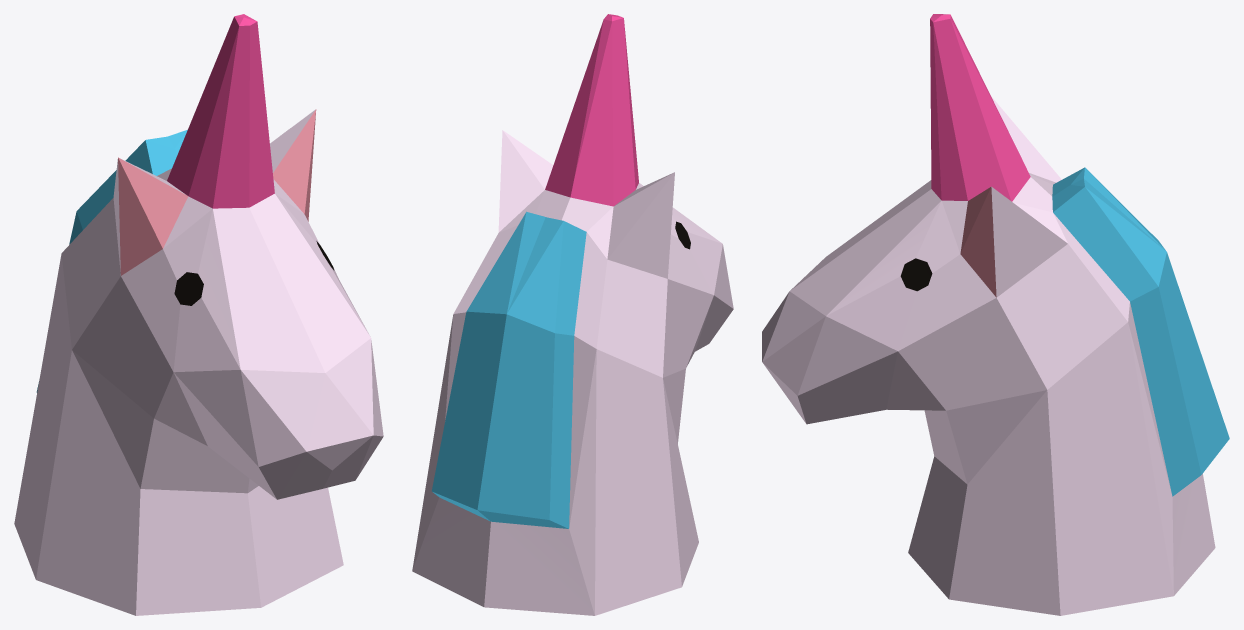
Rendered from hat_unicorn.glb.
The picture shows the model from 3 angles, left to right: view 1: azimuth 30°, elevation 25°; view 2: azimuth 150°, elevation 25°; view 3: azimuth 270°, elevation 25°; orthographic projection. The views are drawn at different scales.
Visible parts, largest first — view 1: Lp_UnicornHat01; view 2: Lp_UnicornHat01; view 3: Lp_UnicornHat01.
Part boxes in pixels (x1,y1,x2,y2): Lp_UnicornHat01: (14,14,383,615); Lp_UnicornHat01: (412,14,733,615); Lp_UnicornHat01: (762,14,1229,615).
Bounding box in the file's own units: 0.31 × 0.5931 × 0.4674.
1 material, 1 textured.
